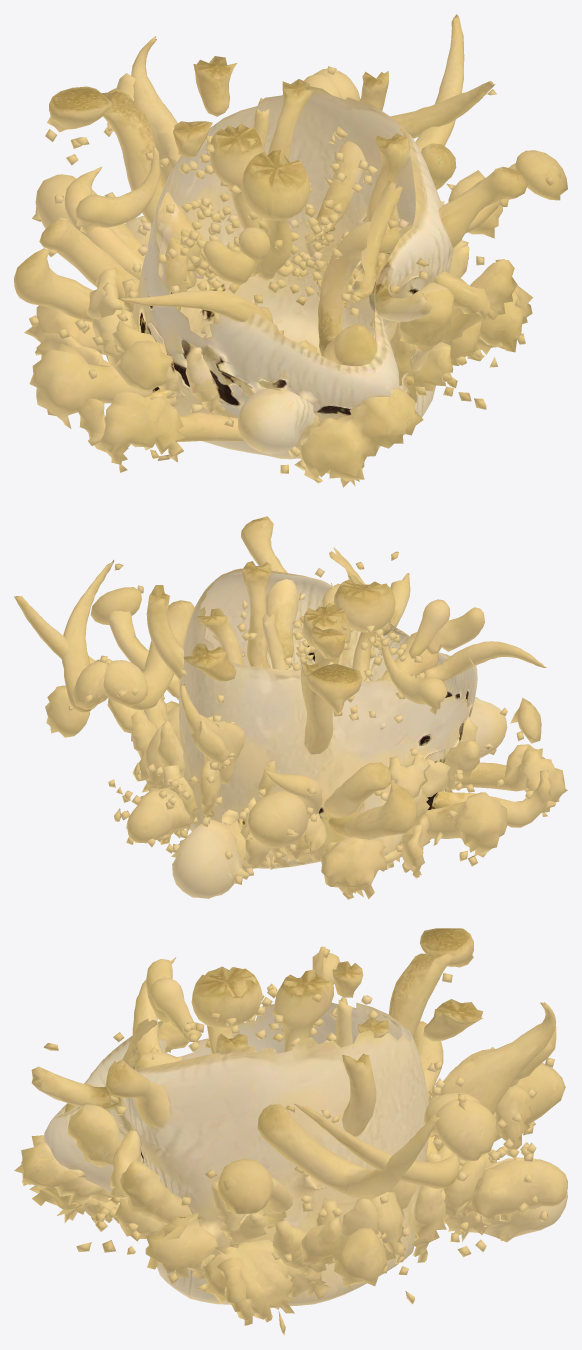
File: dry_steppe_bush.glb
The picture shows the model from 3 angles, top to bottom: view 1: azimuth 30°, elevation 25°; view 2: azimuth 150°, elevation 25°; view 3: azimuth 270°, elevation 25°; orthographic projection. The views are drawn at different scales.
Bounding box in the file's own units: 1.87 × 0.9981 × 1.84.
1 material, 1 textured.
